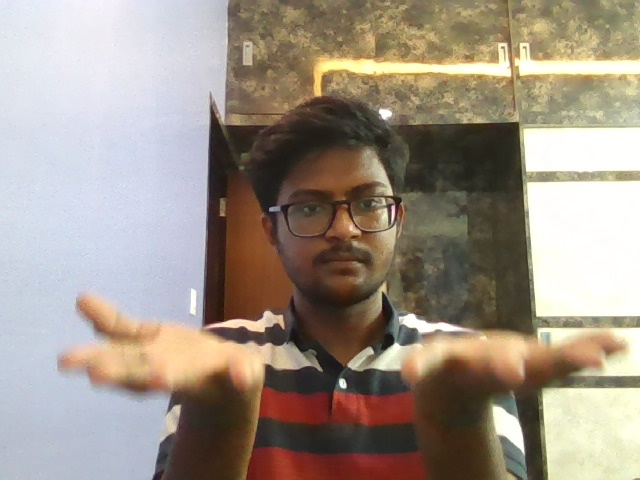what: (47, 287, 640, 447)
